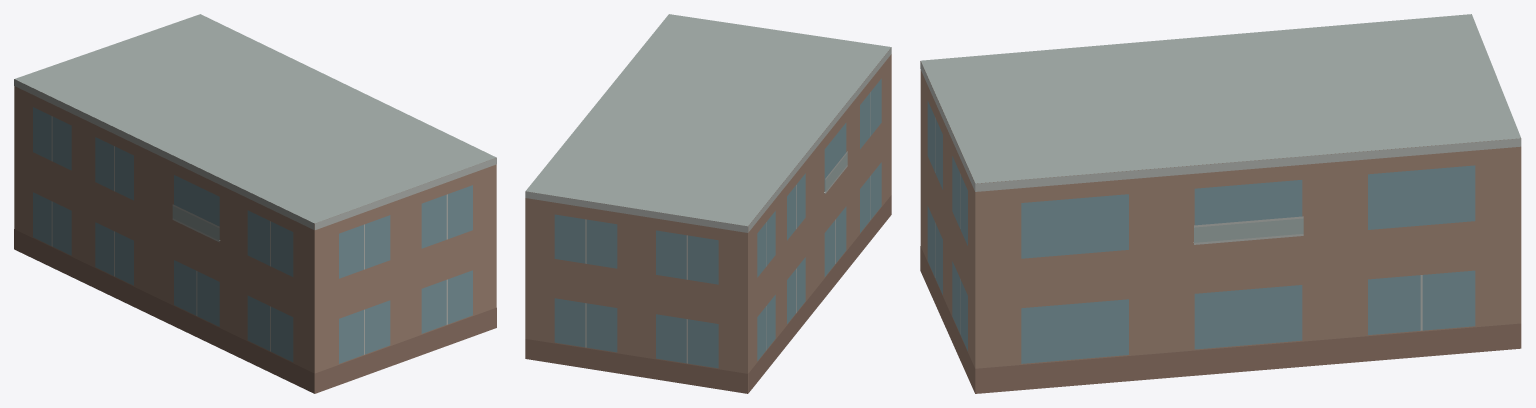
File: survey-upis-32737405.glb
3 renders of one model, left to right at view 1: azimuth 30°, elevation 25°; view 2: azimuth 150°, elevation 25°; view 3: azimuth 270°, elevation 25°, orthographic. The views are drawn at different scales.
Parts seen in each view (by area): view 1: survey-upis-32737405.tmp; view 2: survey-upis-32737405.tmp; view 3: survey-upis-32737405.tmp.
Boxes of the visible parts, x1,y1,x2,y2 form: survey-upis-32737405.tmp: [14, 14, 496, 393]; survey-upis-32737405.tmp: [525, 14, 891, 393]; survey-upis-32737405.tmp: [920, 14, 1521, 393].
Size of the model in its own units: 10.56 by 6.1 by 15.81.
